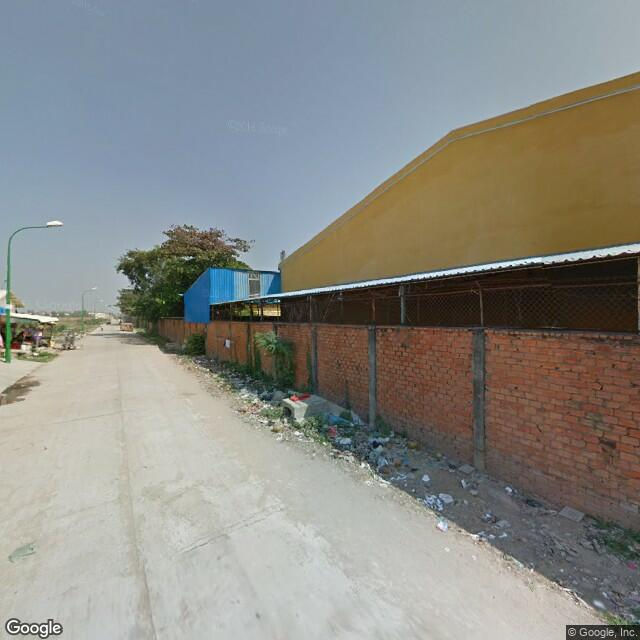litter: (552, 504, 590, 527), (279, 396, 307, 423), (377, 460, 404, 487), (424, 489, 453, 510), (487, 510, 508, 532), (360, 436, 379, 450), (503, 480, 516, 498), (256, 399, 269, 415), (325, 425, 335, 435), (432, 523, 445, 528)
